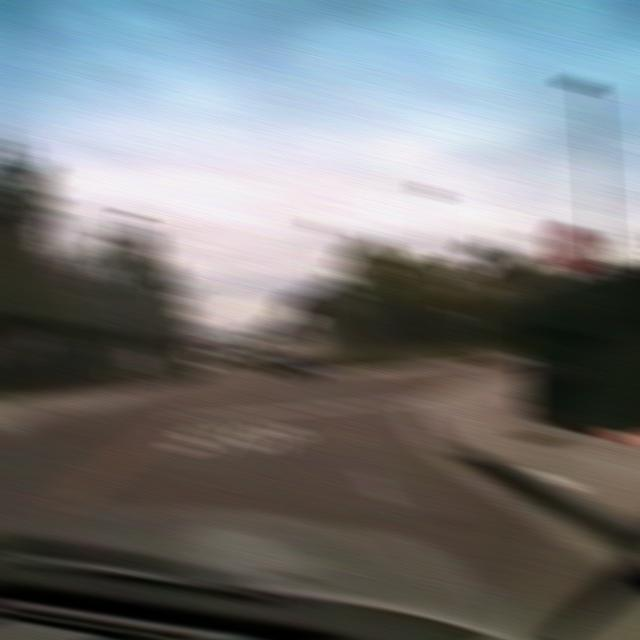stop: (546, 220, 598, 273)
